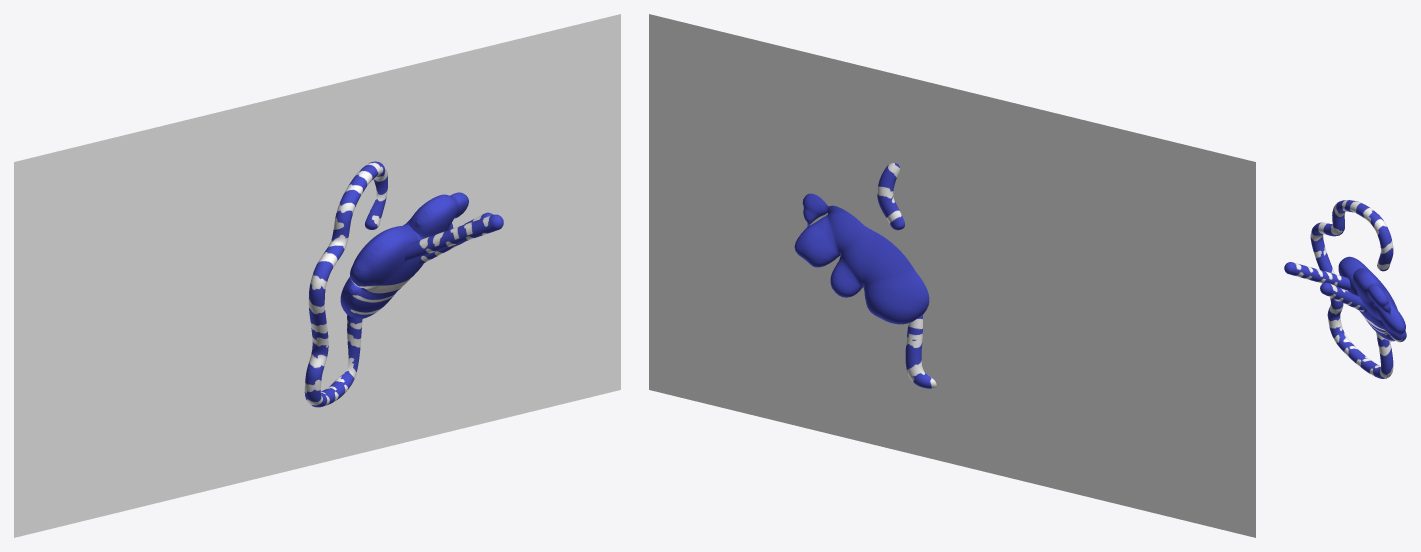
File: bloobo.fbx
The picture shows the model from 3 angles, left to right: view 1: azimuth 30°, elevation 25°; view 2: azimuth 150°, elevation 25°; view 3: azimuth 270°, elevation 25°; orthographic projection. The views are drawn at different scales.
Parts seen in each view (by area): view 1: root (×4); view 2: root (×3); view 3: root (×4).
Part boxes in pixels (box(x1,y1,x2,y2)): root (×4): box(14, 14, 620, 537); root (×3): box(649, 14, 1255, 537); root (×4): box(1284, 200, 1406, 378).
Size of the model in its own units: 2.6 by 1.54 by 0.581.
5 materials, 5 textured.
